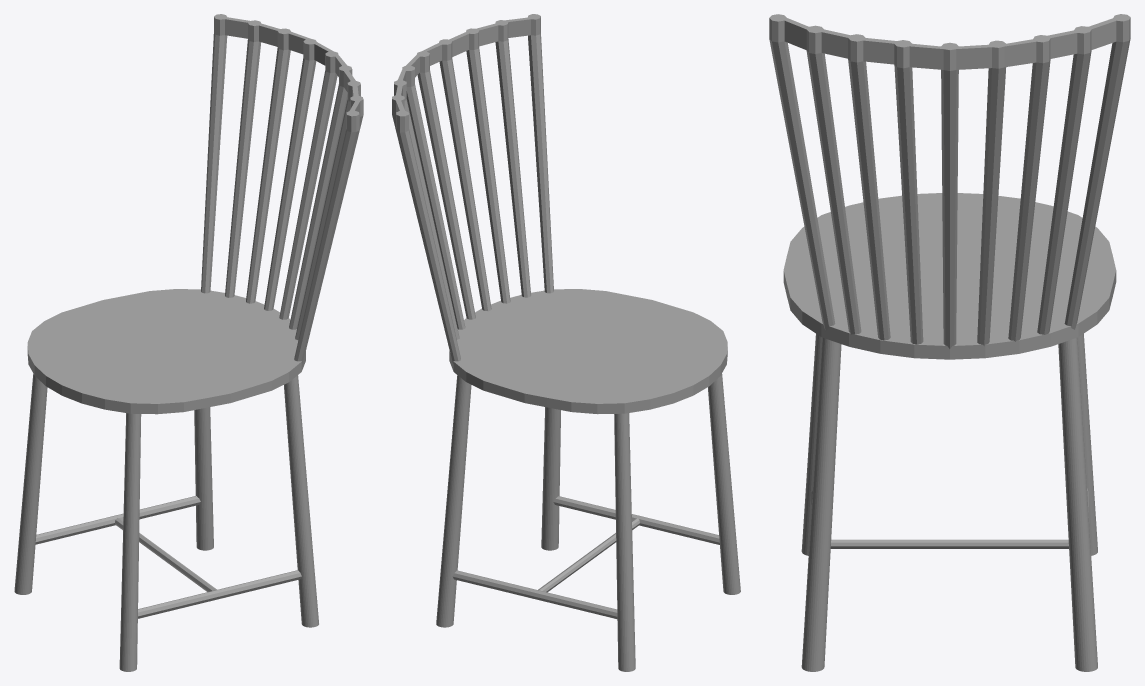
Rendered from chairmetal01.gltf.
3 renders of one model, left to right at view 1: azimuth 30°, elevation 25°; view 2: azimuth 150°, elevation 25°; view 3: azimuth 270°, elevation 25°, orthographic. The views are drawn at different scales.
Visible parts, largest first — view 1: Cylinder.002; view 2: Cylinder.002; view 3: Cylinder.002.
Boxes of the visible parts, x1,y1,x2,y2 form: Cylinder.002: (14, 14, 363, 671); Cylinder.002: (392, 14, 740, 671); Cylinder.002: (769, 14, 1130, 671).
Size of the model in its own units: 0.631 by 1.06 by 0.5197.
1 material, 1 textured.
